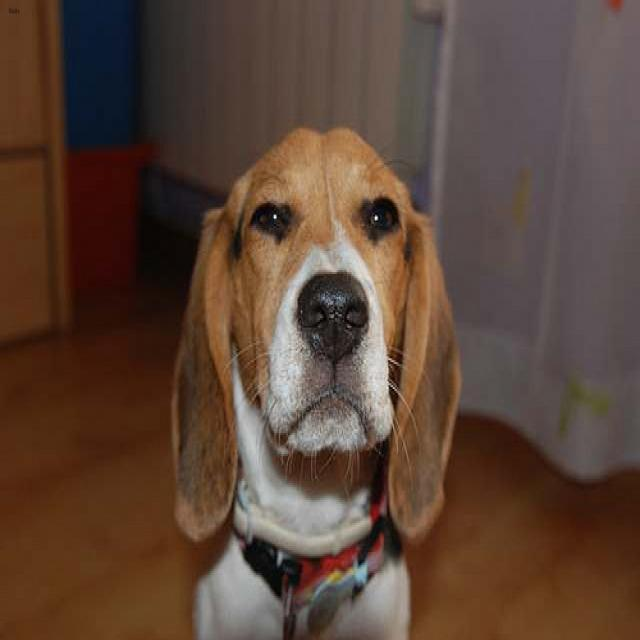dog-beagle: (165, 115, 468, 636)
